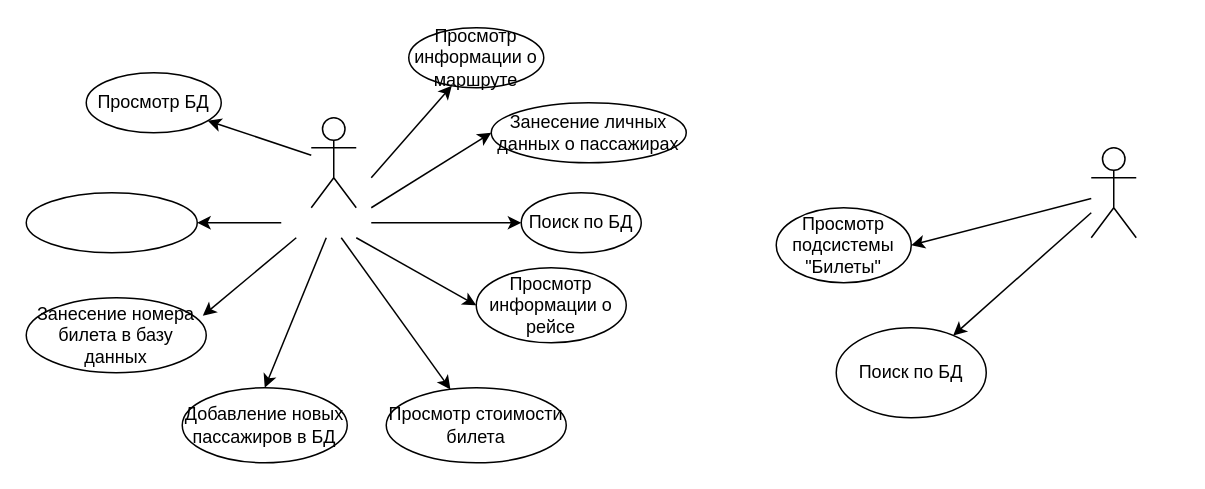
Some shapes in this 1205 by 489 pixel diagram are drawn without their labels. The shapes that lost their labels are listed below. From the top down, each one's centre as x and y in pixels, then its label:
At pixel 333 162: "Сотрудник".
At pixel 1113 192: "Администратор".
At pixel 111 222: "Редактирование БД".
